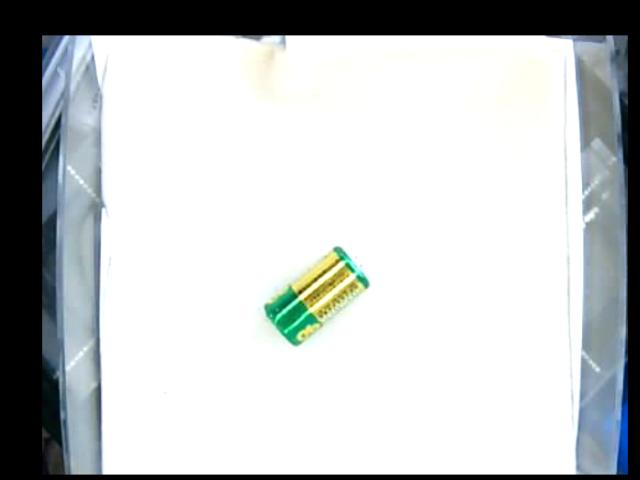Battery: (264, 246, 370, 343)
